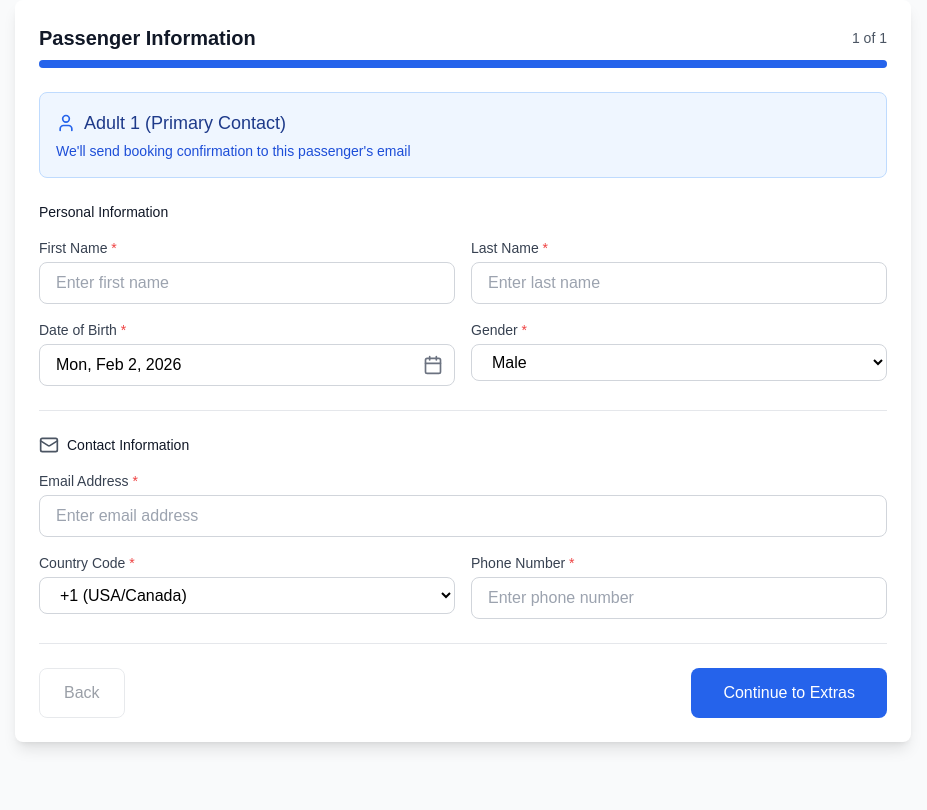
PassengerForm › Validation - Contact Information › shows error for empty phone number
Click the button "Continue to Extras" at [789, 693], box [691,668,887,718]
(page scrolled)
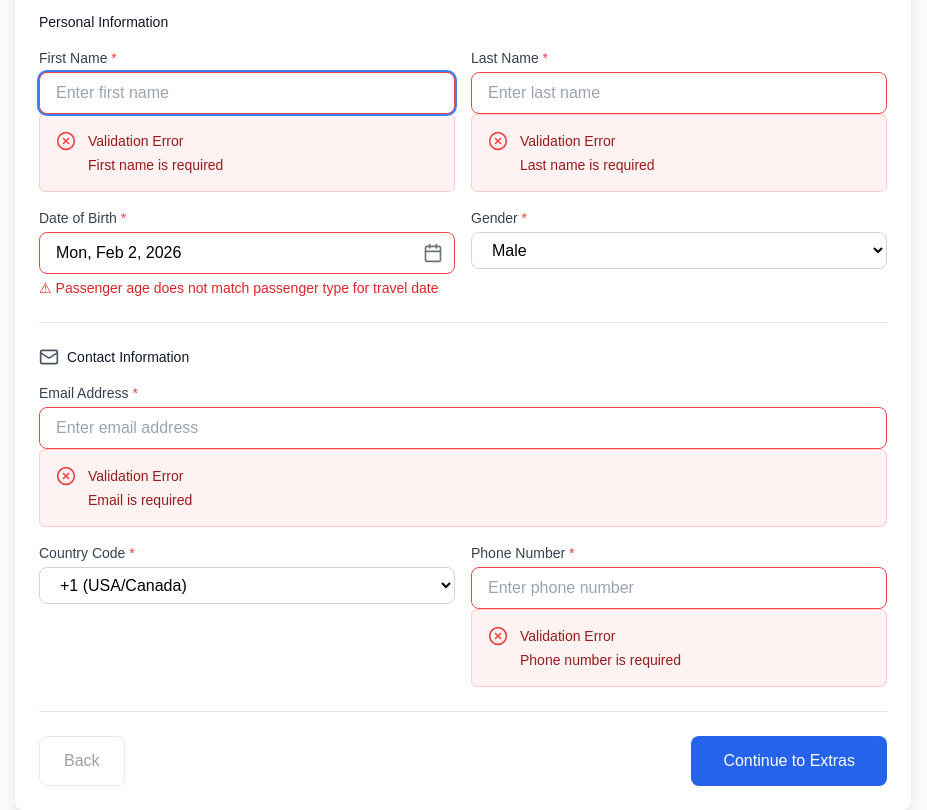
expect the text "Phone number is required" is shown: met, box [520,652,681,668]
